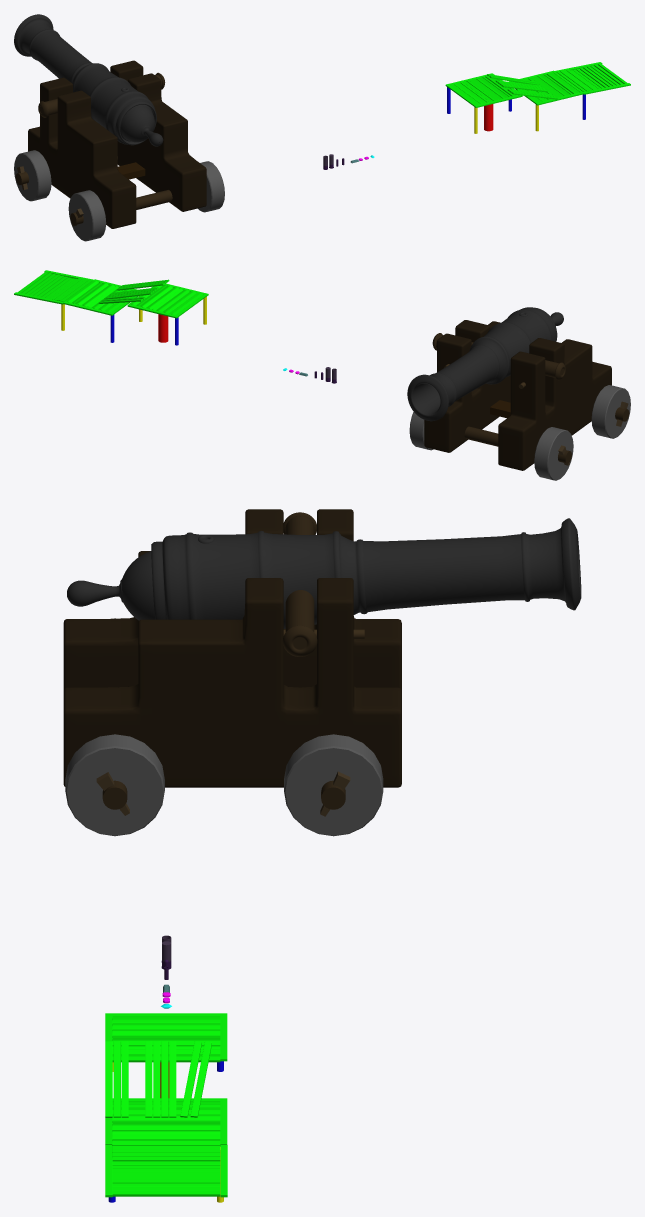
File: UVSet_10.fbx
The picture shows the model from 3 angles, top to bottom: view 1: azimuth 30°, elevation 25°; view 2: azimuth 150°, elevation 25°; view 3: azimuth 270°, elevation 25°; orthographic projection. The views are drawn at different scales.
Parts seen in each view (by area): view 1: Cannon, Dock; view 2: Cannon, Dock; view 3: Cannon, Dock.
Boxes of the visible parts, left/top/right/bottom form: Cannon: left=14, top=14, right=224, bottom=241; Dock: left=445, top=62, right=630, bottom=133; Cannon: left=407, top=307, right=630, bottom=480; Dock: left=14, top=270, right=208, bottom=345; Cannon: left=63, top=509, right=581, bottom=836; Dock: left=105, top=1013, right=227, bottom=1202.
Bounding box in the file's own units: 47.38 × 10.34 × 19.14.
